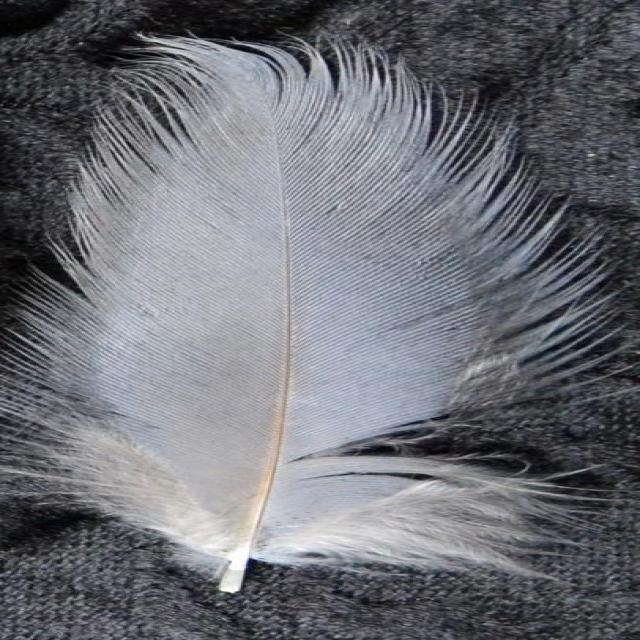feather: (0, 17, 640, 599)
